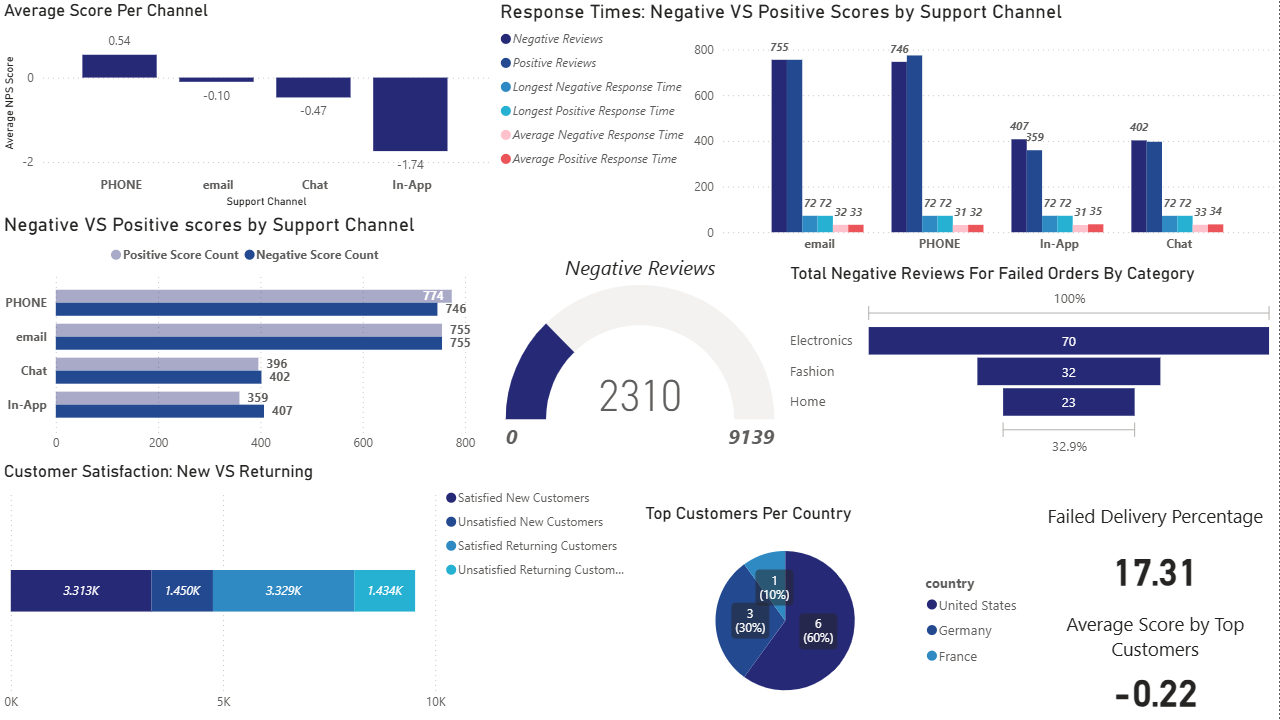

The page's visual inventory and layout, read from the dashboard file:
{"tool":"powerbi","page":{"name":"Page 1","canvas":[1280,720],"ordinal":0},"visuals":[{"type":"clusteredBarChart","title":"Negative VS Positive scores by Support Channel","fields":{"Category":["statistics_per_channel.support_channel"],"Y":["Sum(statistics_per_channel.positive_count)","Sum(statistics_per_channel.Negative_count)"]},"box":[0,213.4,495.7,247.8],"z":0},{"type":"columnChart","title":"Average Score Per  Channel","fields":{"Category":["statistics_per_channel.support_channel"],"Y":["Sum(statistics_per_channel.average_nps_score)"]},"box":[0,0,495.7,212.9],"z":1000},{"type":"clusteredColumnChart","title":" Response Times: Negative VS Positive Scores by Support Channel","fields":{"Category":["response_times_per_channel.support_channel"],"Y":["Sum(response_times_per_channel.negative_num)","Sum(response_times_per_channel.positive_num)","Sum(response_times_per_channel.longest_negative_response_time)","Sum(response_times_per_channel.longest_positive_response_time)","Sum(response_times_per_channel.avg_negative_response_time)","Sum(response_times_per_channel.avg_positive_response_time)"]},"box":[495.7,0,784.6,262.4],"z":3000},{"type":"pieChart","title":"Top Customers Per Country","fields":{"Category":["top_customers.country"],"Y":["CountNonNull(top_customers.customer_id)"]},"box":[641.2,502.5,391.2,217.5],"z":5000},{"type":"barChart","title":"Not Delivered Orders per Country","fields":{"Y":["Sum(failed_orders.num_not_delivered)","Sum(failed_orders.failed_confirmed_num)"],"Category":["customer_statistics_staging3.product_category"]},"box":[785.7,254.3,494.3,248.6],"z":7001},{"type":"gauge","title":"Negative Reviews","fields":{"Y":["Sum(response_times_per_channel.negative_num)"],"MaxValue":["CountNonNull(customer_statistics_staging3.nps_score)"]},"box":[495.7,254.3,290,207.1],"z":7002},{"type":"barChart","title":"Customer Satisfaction: New VS Returning","fields":{"Y":["Sum(customer_satisfaction_new_vs_returning.satisfied_new_customers)","Sum(customer_satisfaction_new_vs_returning.unsatisfied_new_customers)","Sum(customer_satisfaction_new_vs_returning.satisfied_returning_customers)","Sum(customer_satisfaction_new_vs_returning.unsatisfied_returning_customers)"]},"box":[0,461.4,641.4,258.6],"z":7003},{"type":"card","title":"Average Score by Top Customers","fields":{"Values":["Max(top_customers_per_country.avg_score)"]},"box":[1032.5,611.2,247.5,108.8],"z":7004},{"type":"card","title":"Failed Delivery Percentage","fields":{"Values":["Sum(failed_orders.failed_delivery_percentage)"]},"box":[1032.5,502.5,247.5,108.8],"z":7005}]}

Visuals, with their boxes in screenshot pixels (x1, y1, x2, y2), scaled from the page's 1280x720 canvas onto the 1280x720 screenshot:
"Negative VS Positive scores by Support Channel" clusteredBarChart: box=[0, 213, 496, 461]
"Average Score Per  Channel" columnChart: box=[0, 0, 496, 213]
" Response Times: Negative VS Positive Scores by Support Channel" clusteredColumnChart: box=[496, 0, 1279, 262]
"Top Customers Per Country" pieChart: box=[641, 502, 1032, 719]
"Not Delivered Orders per Country" barChart: box=[786, 254, 1279, 503]
"Negative Reviews" gauge: box=[496, 254, 786, 461]
"Customer Satisfaction: New VS Returning" barChart: box=[0, 461, 641, 719]
"Average Score by Top Customers" card: box=[1032, 611, 1279, 719]
"Failed Delivery Percentage" card: box=[1032, 502, 1279, 611]
